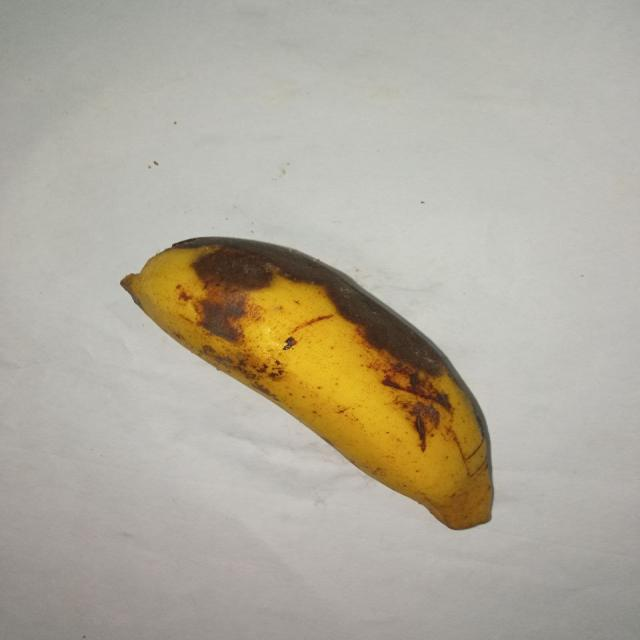rotten_banana: (125, 234, 495, 528)
